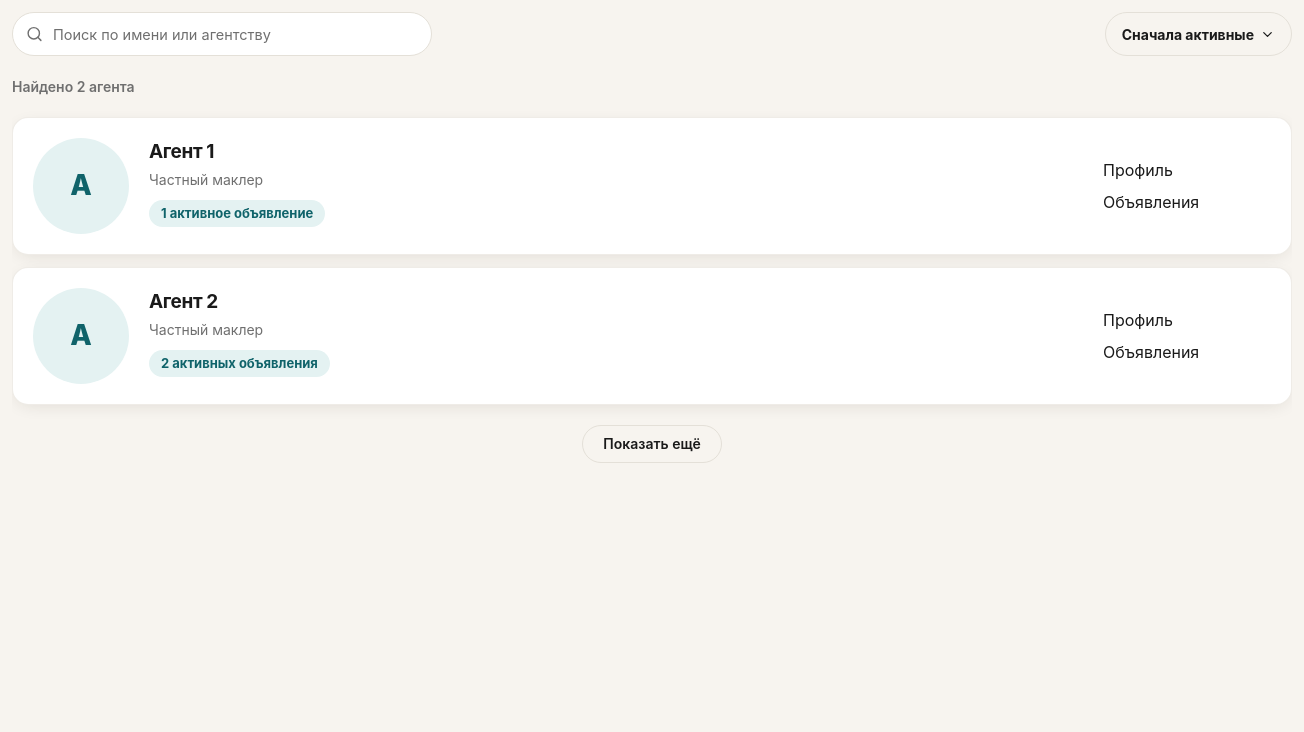
Scenario: AgentsCatalog › клик дотягивает следующую страницу и дописывает её к выдаче
The width and height of the screenshot is (1304, 732).
Click the button "Показать ещё": click(652, 444) [582,425,722,463]
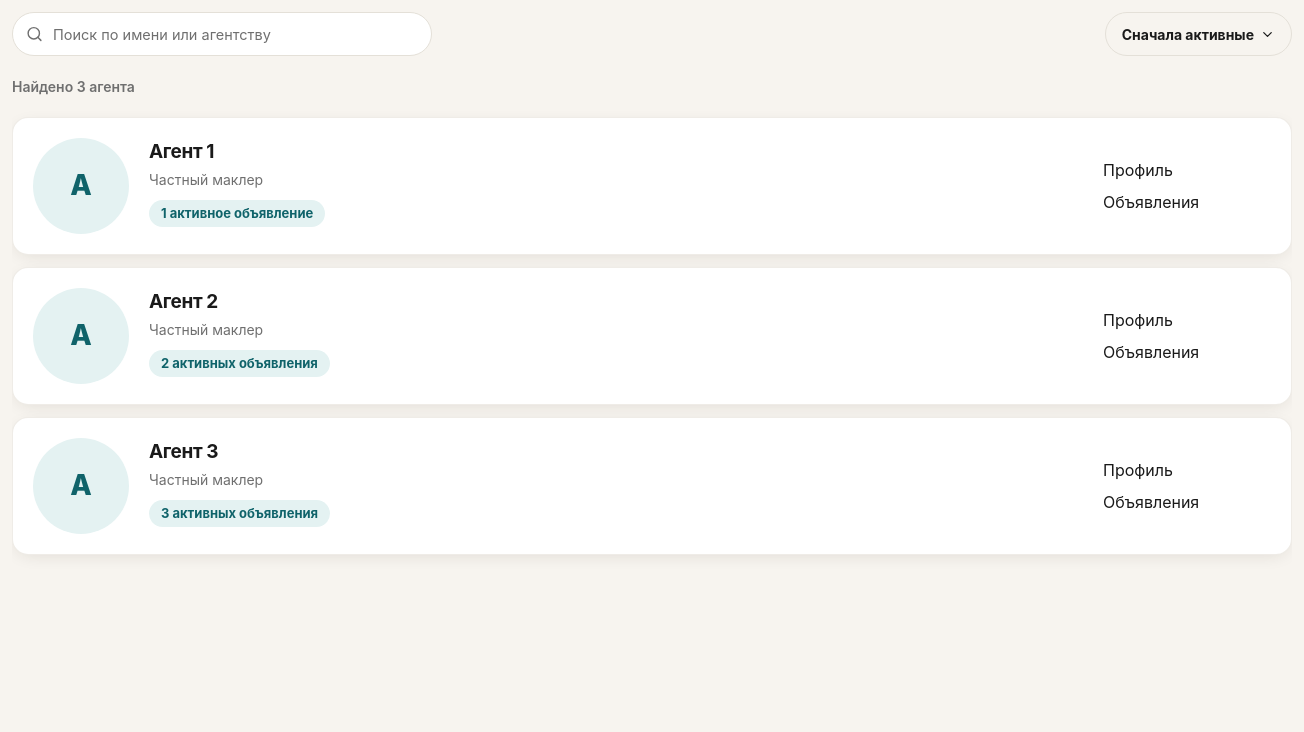
Expected: the link "Агент 1" is shown, [149,140,214,163]
Expected: the link "Агент 3" is shown, [149,440,218,463]
